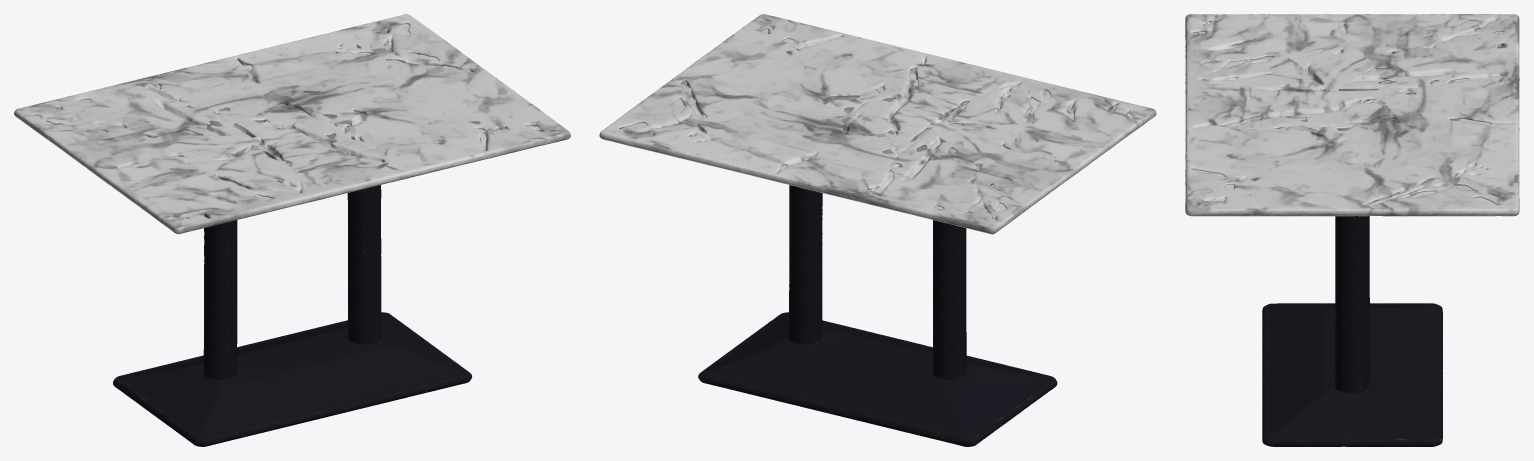
Rendered from item-15.glb.
The picture shows the model from 3 angles, left to right: view 1: azimuth 30°, elevation 25°; view 2: azimuth 150°, elevation 25°; view 3: azimuth 270°, elevation 25°; orthographic projection.
Visible parts, largest first — view 1: geometry_0; view 2: geometry_0; view 3: geometry_0.
Boxes of the visible parts, left/top/right/bottom form: geometry_0: left=14, top=14, right=570, bottom=446; geometry_0: left=599, top=14, right=1156, bottom=446; geometry_0: left=1185, top=14, right=1519, bottom=446.
Bounding box in the file's own units: 1 × 0.6381 × 0.7201.
1 material, 1 textured.
